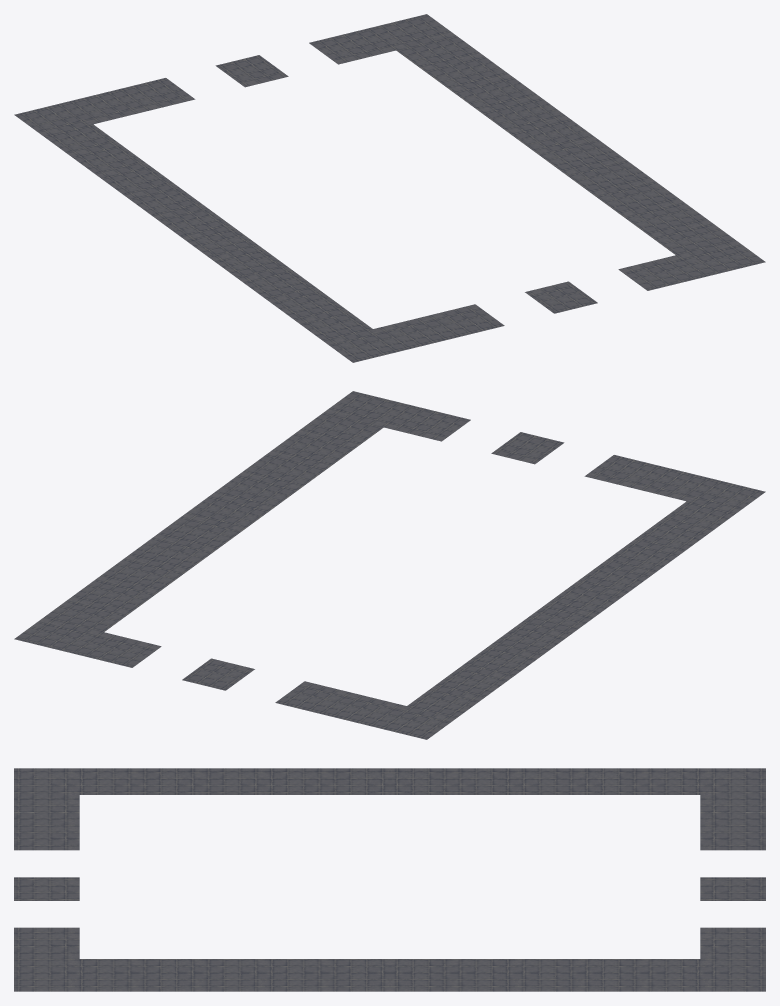
The model's file is SM_CCJ_StereobateA.fbx.
3 views of the same model, one above another, from view 1: azimuth 30°, elevation 25°; view 2: azimuth 150°, elevation 25°; view 3: azimuth 270°, elevation 25° (orthographic). The views are drawn at different scales.
Visible parts, largest first — view 1: SM_CCJ_StereobateA; view 2: SM_CCJ_StereobateA; view 3: SM_CCJ_StereobateA.
Part boxes in pixels (box(x1,y1,x2,y2)): SM_CCJ_StereobateA: box(14, 14, 765, 362); SM_CCJ_StereobateA: box(14, 391, 765, 739); SM_CCJ_StereobateA: box(14, 768, 765, 991).
Bounding box in the file's own units: 1085 × 1543 × 0.000477.
Materials: 1 (1 with a texture image).
